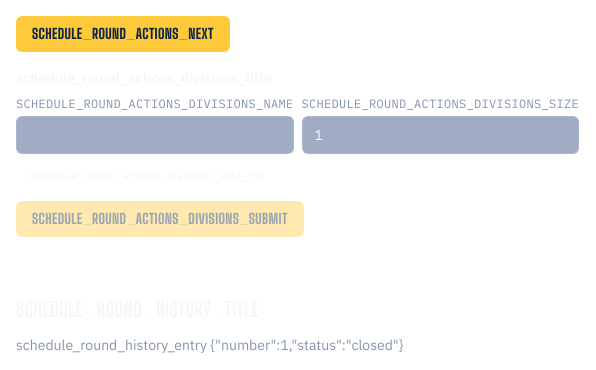
it: ScheduleRoundActions › disables the divisions submit button until a cut has a non-blank name
Expected: the button "schedule_round_actions_divisions_submit" is disabled, x1=16 y1=201 x2=304 y2=237
Type "Gold" into the field labelled "schedule_round_actions_divisions_name" at [155, 135], box x1=16 y1=116 x2=294 y2=154
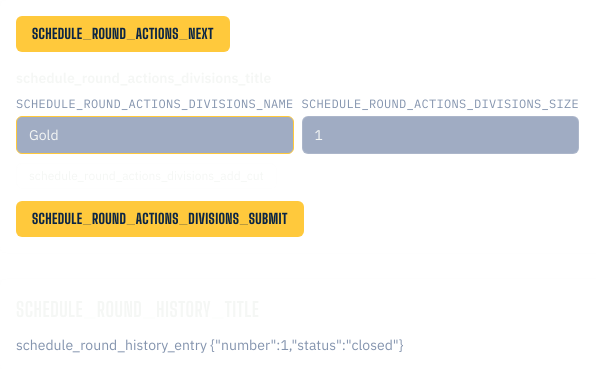
Result: the button "schedule_round_actions_divisions_submit" is enabled at x1=16 y1=201 x2=304 y2=237
